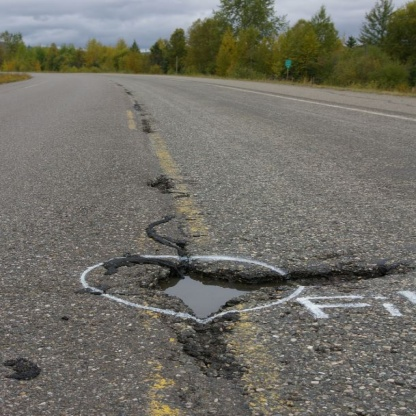pothole: (124, 241, 390, 325)
